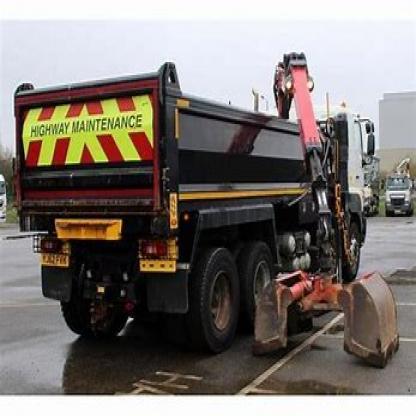dump_truck: (11, 52, 386, 349)
